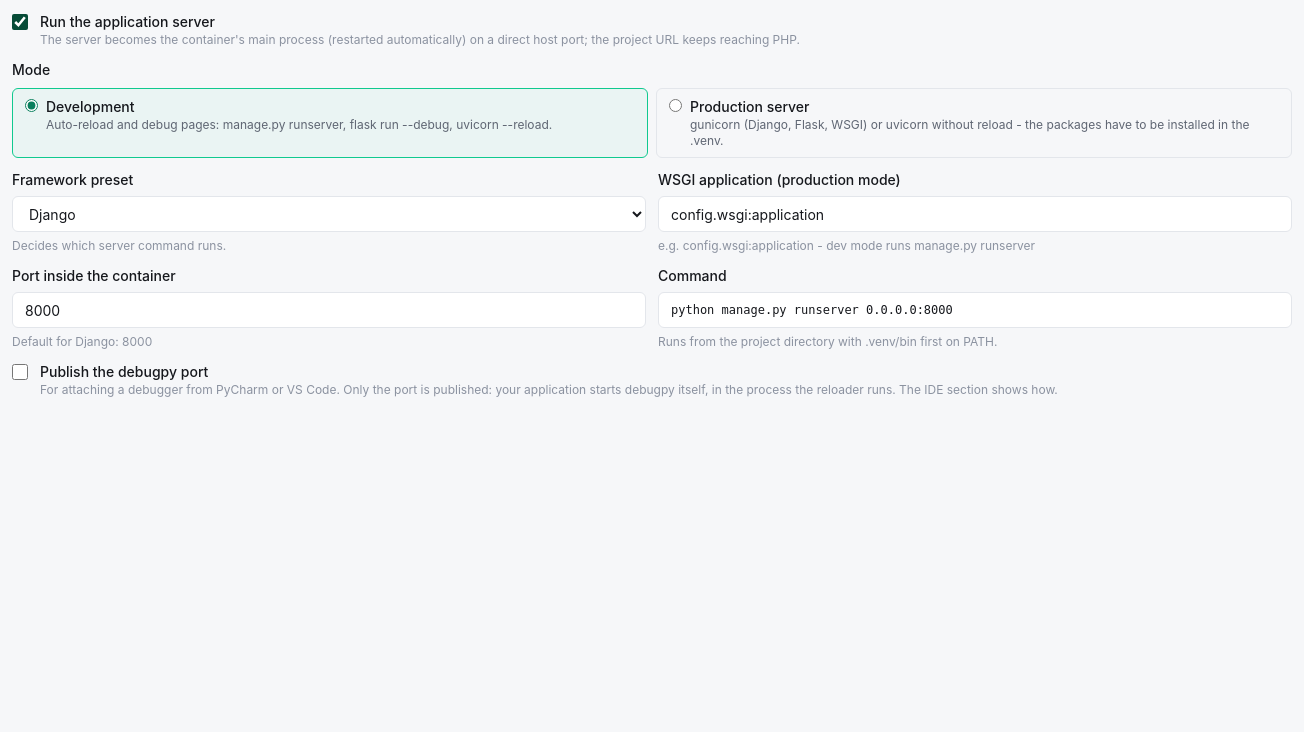
PythonServerFields › follows the preset's port and app only while untouched and shows the command
The image size is (1304, 732).
Expected: the field labelled "Command" holds "python manage.py runserver 0.0.0.0:8000", [658, 292, 1292, 328]
Select "Flask" in the dropdown labelled "Framework preset": {"x": 329, "y": 214} [12, 196, 646, 232]
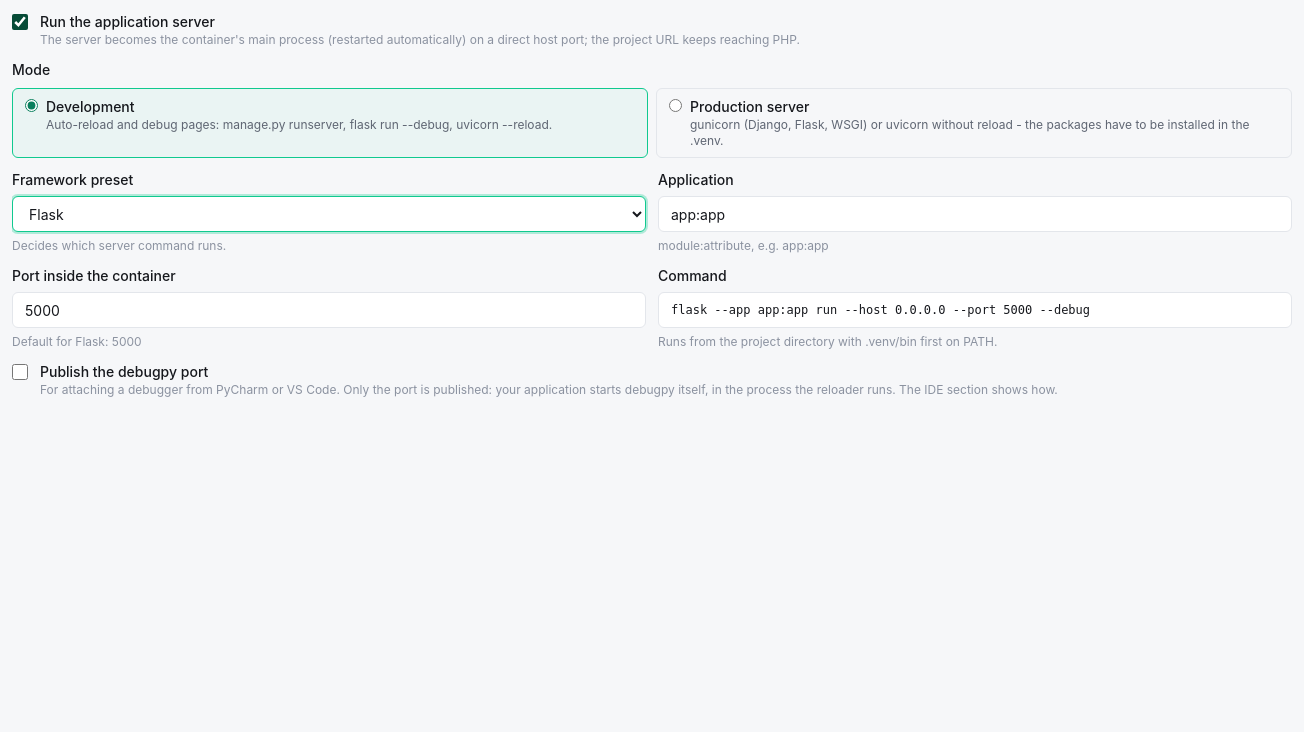
Expected: the number field labelled "Port inside the container" holds "5000", [12, 292, 646, 328]
Expected: the field labelled "Application" holds "app:app"
Expected: the field labelled "Command" holds "flask --app app:app run --host 0.0.0.0 --port 5000 --debug", [658, 292, 1292, 328]
In the field labelled "Application": {"x": 975, "y": 214} [658, 196, 1292, 232], type "web:create_app"
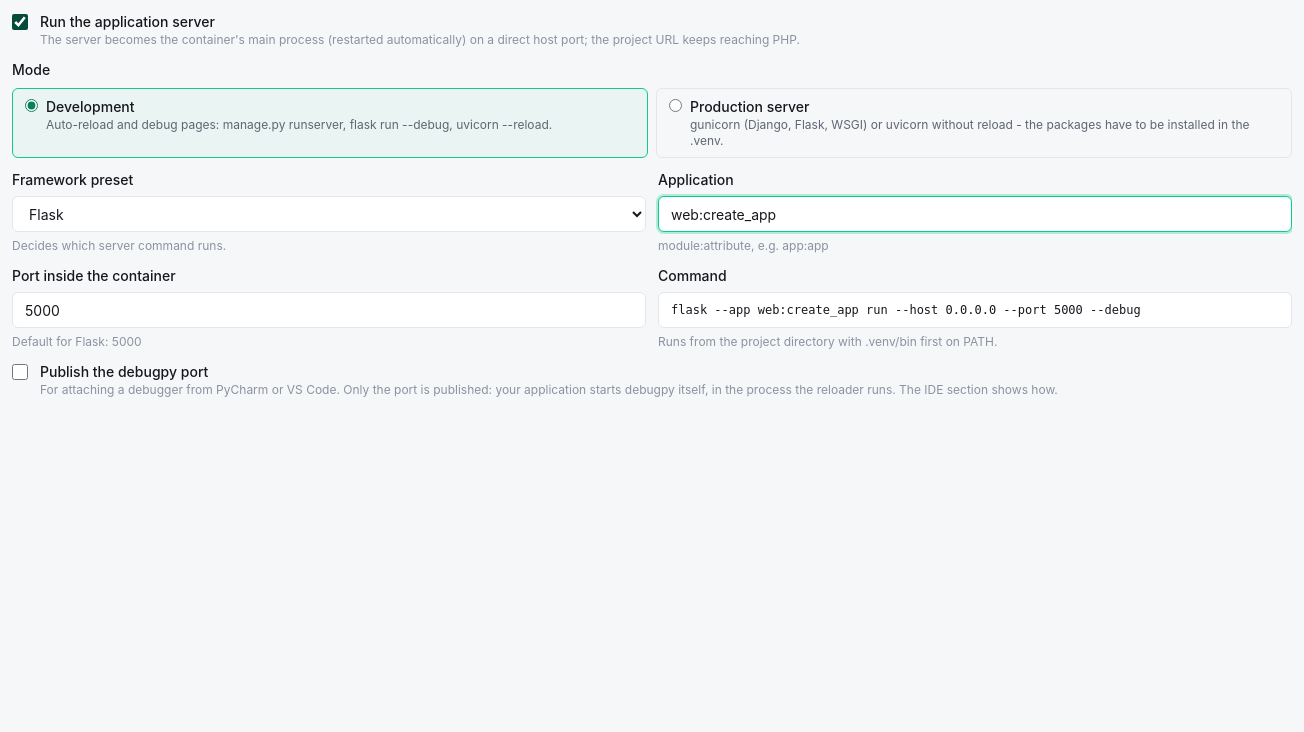
Select "WSGI (gunicorn)" in the dropdown labelled "Framework preset": {"x": 329, "y": 214} [12, 196, 646, 232]
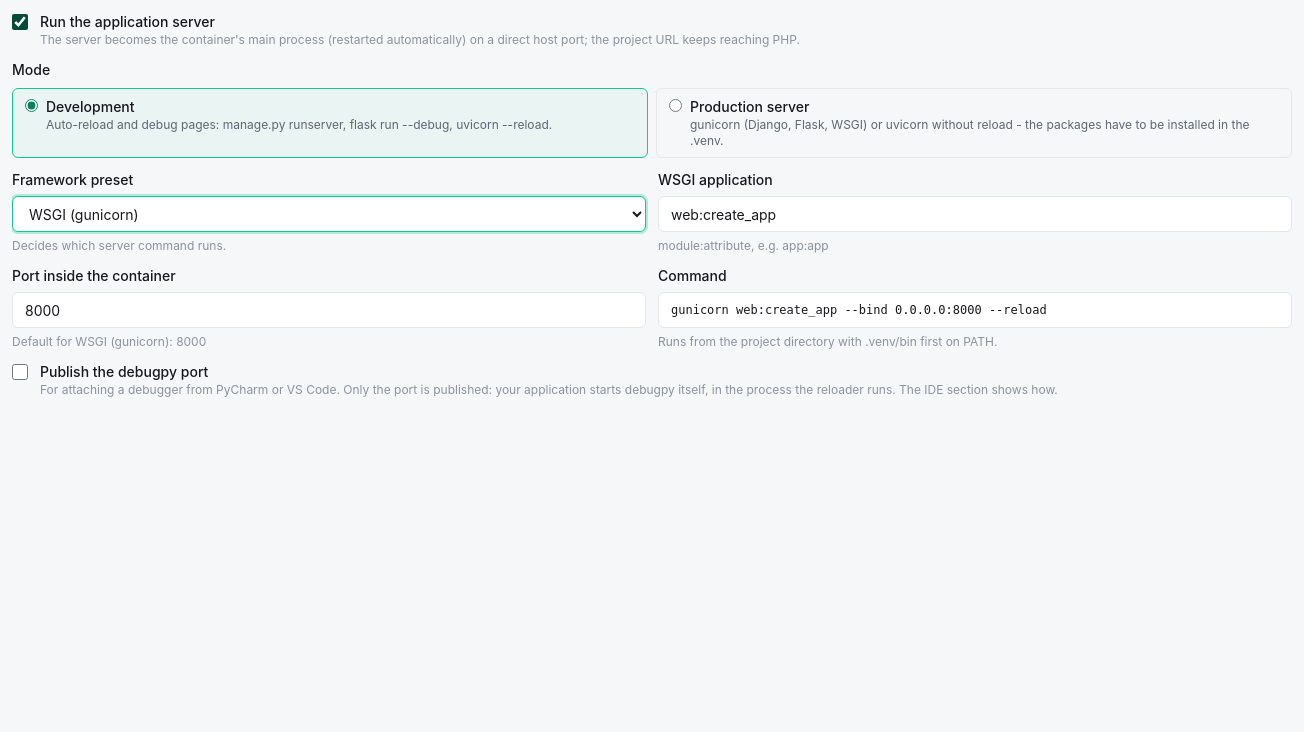
Expected: the number field labelled "Port inside the container" holds "8000", [12, 292, 646, 328]
Click the radio button labelled "Production server": {"x": 676, "y": 106} [669, 99, 682, 112]
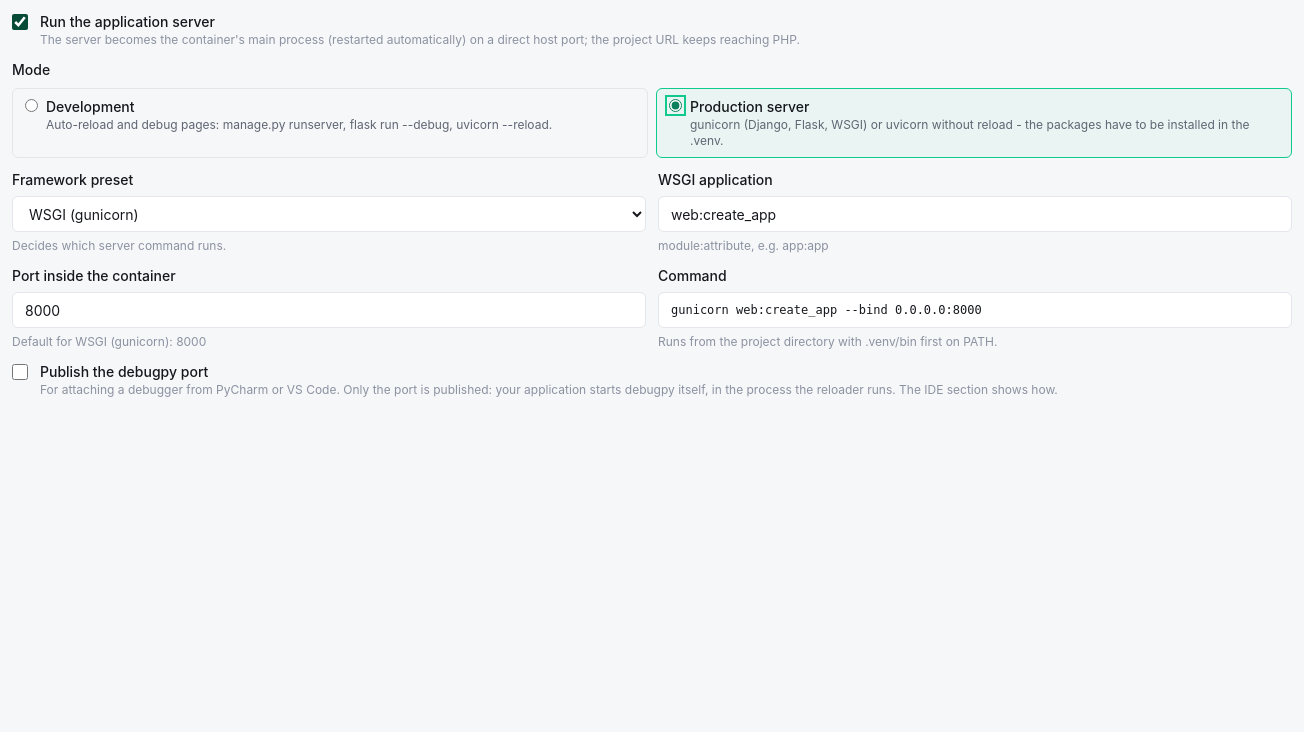
Expected: the field labelled "Command" holds "gunicorn web:create_app --bind 0.0.0.0:8000", [658, 292, 1292, 328]
Click the checkbox labelled "Publish the debugpy port": {"x": 20, "y": 372} [12, 364, 28, 380]
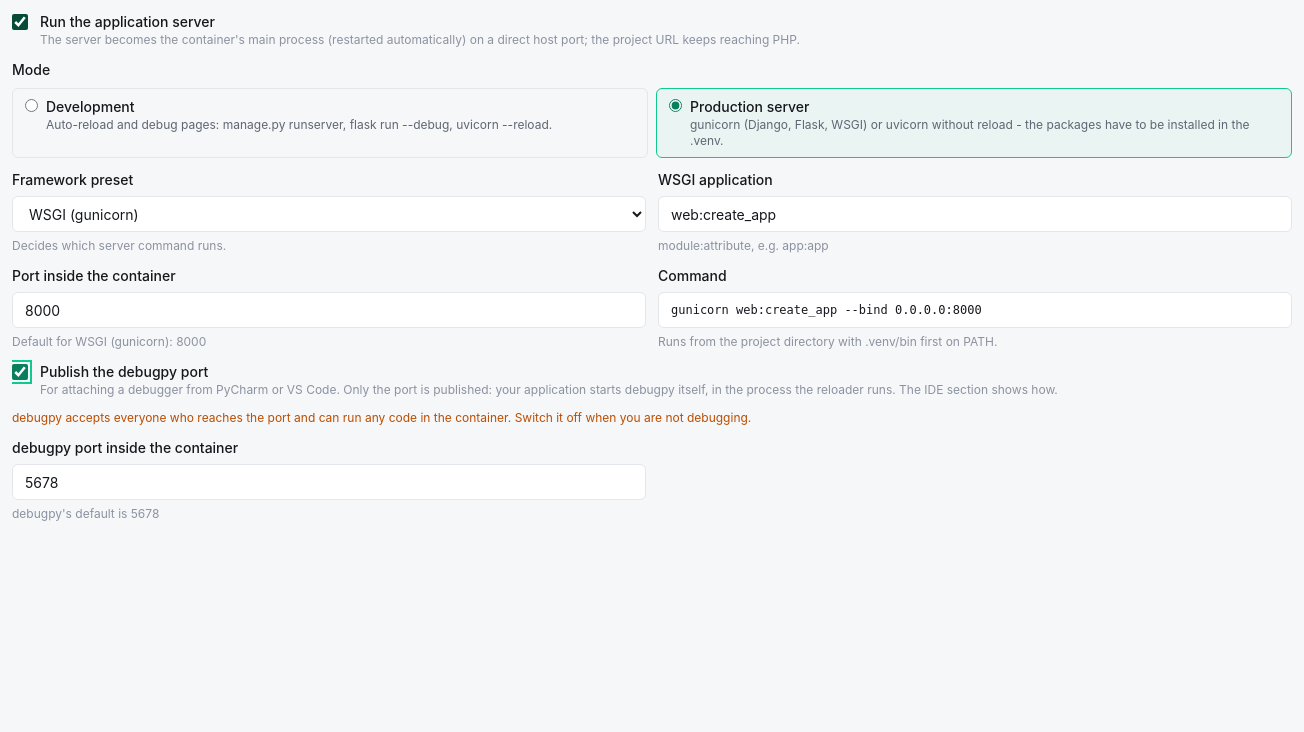
Expected: the number field labelled "debugpy port inside the container" holds "5678", [12, 464, 646, 500]
